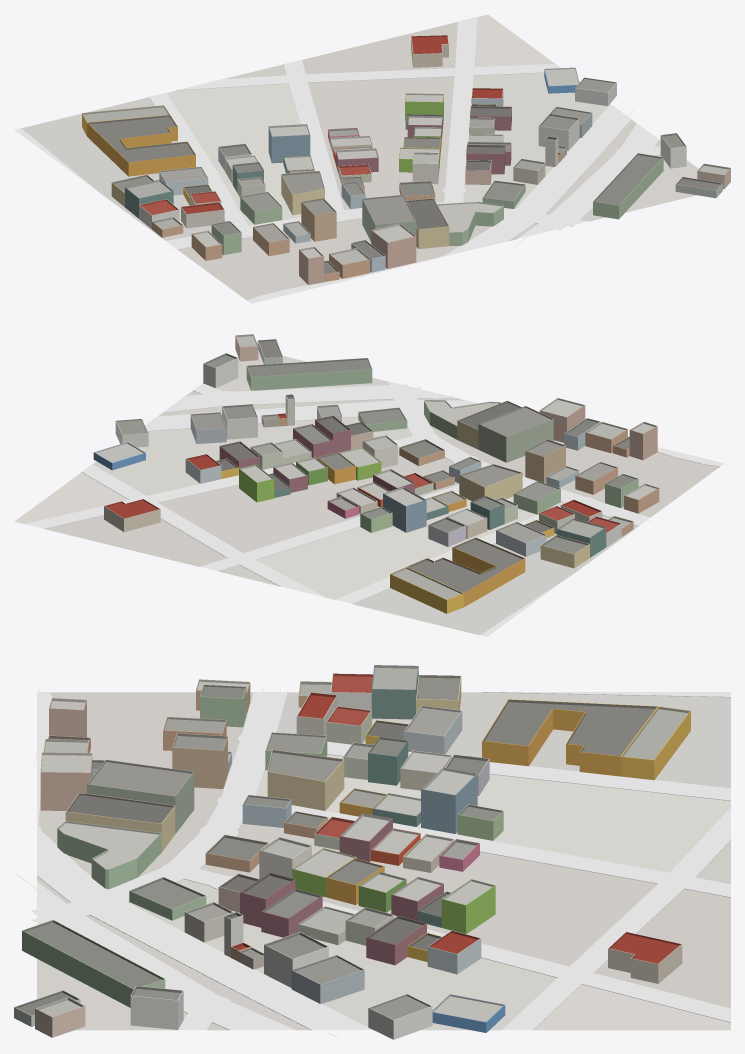
The picture shows the model from 3 angles, top to bottom: view 1: azimuth 30°, elevation 25°; view 2: azimuth 150°, elevation 25°; view 3: azimuth 270°, elevation 25°; orthographic projection. The views are drawn at different scales.
Parts seen in each view (by area): view 1: ground, roofs, walls, sidewalk; view 2: ground, walls, roofs, sidewalk; view 3: ground, roofs, walls, sidewalk.
Part boxes in pixels (x1,y1,x2,y2): ground: (21, 14, 698, 300); roofs: (82, 35, 730, 274); walls: (82, 36, 730, 284); sidewalk: (14, 17, 660, 303); ground: (14, 350, 719, 635); walls: (93, 336, 659, 613); roofs: (94, 334, 658, 599); sidewalk: (25, 381, 723, 636); ground: (37, 692, 730, 1030); roofs: (14, 665, 690, 1022); walls: (14, 668, 690, 1039); sidewalk: (37, 692, 730, 1030).
Size of what is drawn, in the model's own units: 261 by 13.38 by 224.
